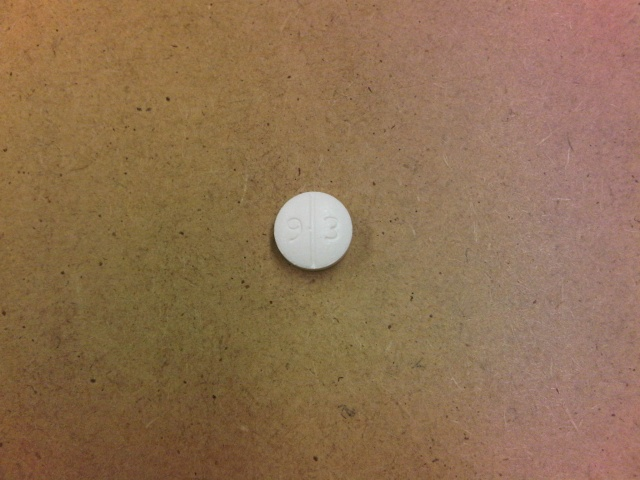3: (321, 215, 340, 242)
9: (285, 215, 304, 243)
|: (307, 192, 317, 270)
